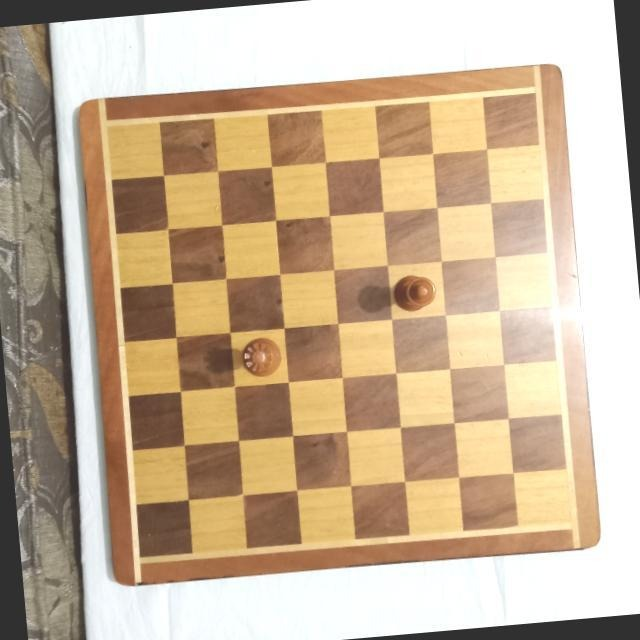white-king: (389, 270, 438, 314)
white-queen: (237, 334, 283, 380)
